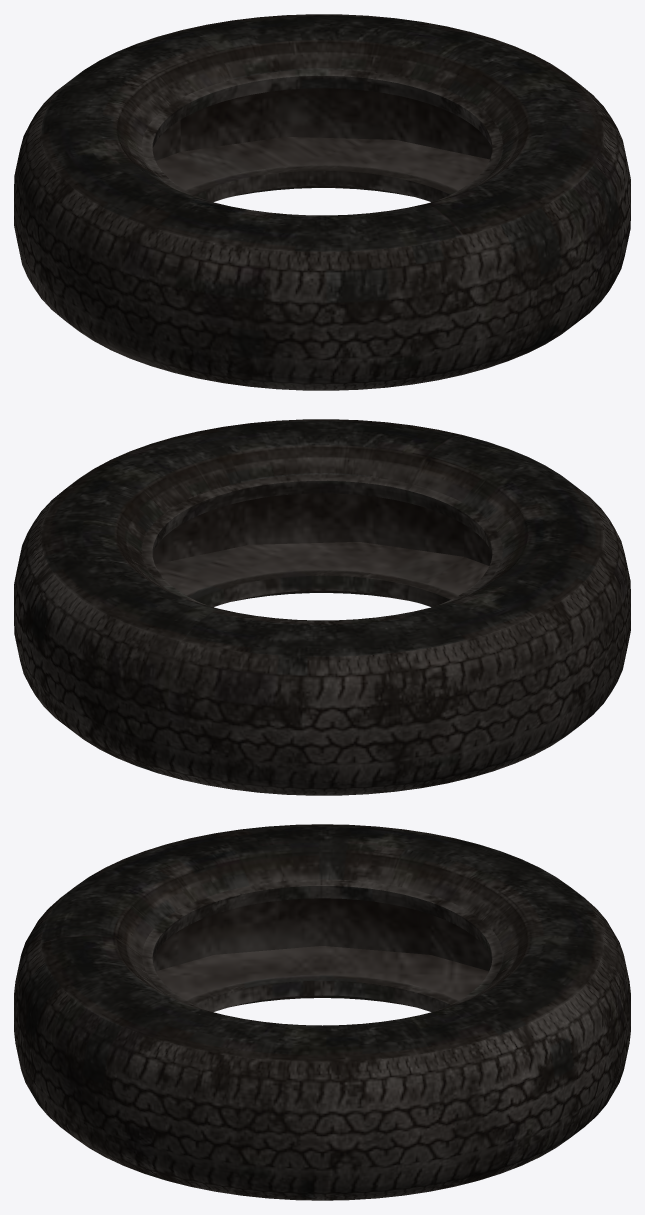
File: old_tyre.glb
3 renders of one model, top to bottom at view 1: azimuth 30°, elevation 25°; view 2: azimuth 150°, elevation 25°; view 3: azimuth 270°, elevation 25°, orthographic.
Parts seen in each view (by area): view 1: old_tyre; view 2: old_tyre; view 3: old_tyre.
Boxes of the visible parts, x1,y1,x2,y2 form: old_tyre: [14, 14, 630, 390]; old_tyre: [14, 419, 630, 795]; old_tyre: [14, 824, 630, 1200].
Bounding box in the file's own units: 0.6 × 0.165 × 0.6.
Materials: 1 (1 with a texture image).
